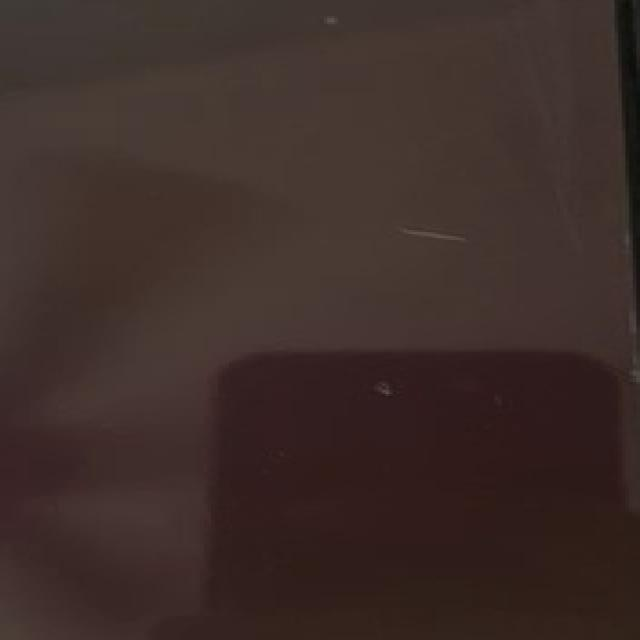Scratches: (393, 203, 476, 260), (370, 371, 399, 410)
